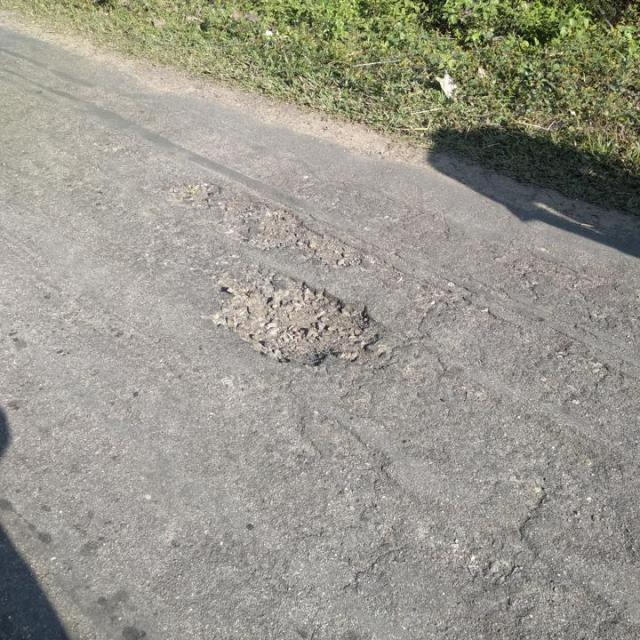Pothole: (207, 268, 399, 370), (232, 204, 375, 272), (166, 178, 224, 212)
